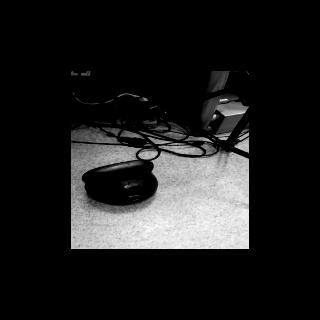kettlebell: (81, 160, 156, 206)
